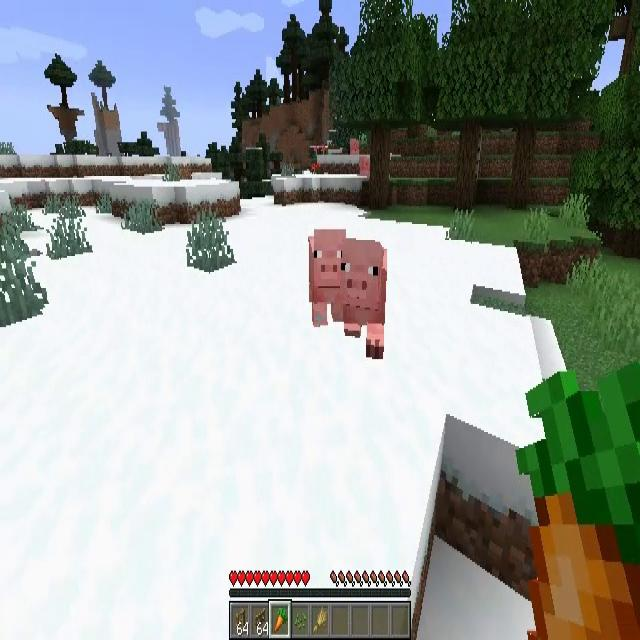pig: (341, 237, 387, 359), (308, 228, 346, 328), (358, 157, 371, 177), (350, 138, 360, 154)
